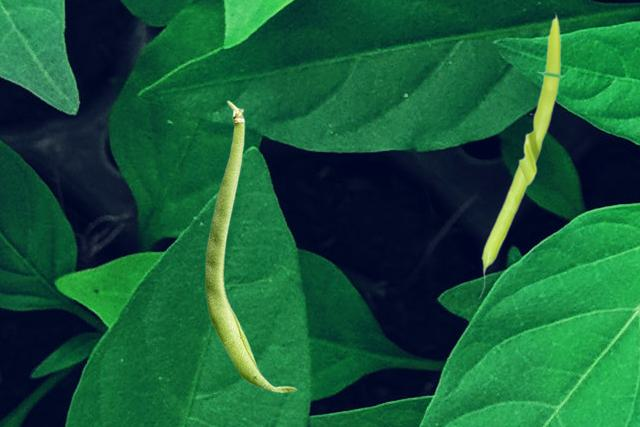french_bean: (205, 100, 296, 392), (478, 11, 563, 299)
